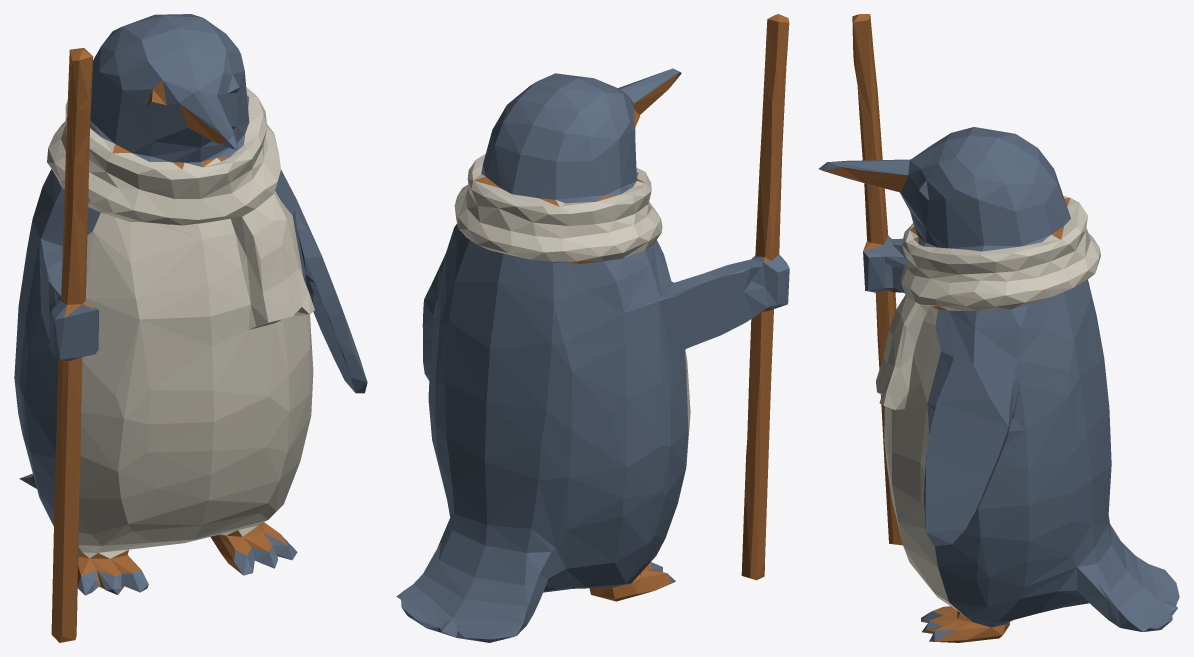
3 renders of one model, left to right at view 1: azimuth 30°, elevation 25°; view 2: azimuth 150°, elevation 25°; view 3: azimuth 270°, elevation 25°, orthographic. The views are drawn at different scales.
Bounding box in the file's own units: 0.6057 × 1 × 0.6244.
